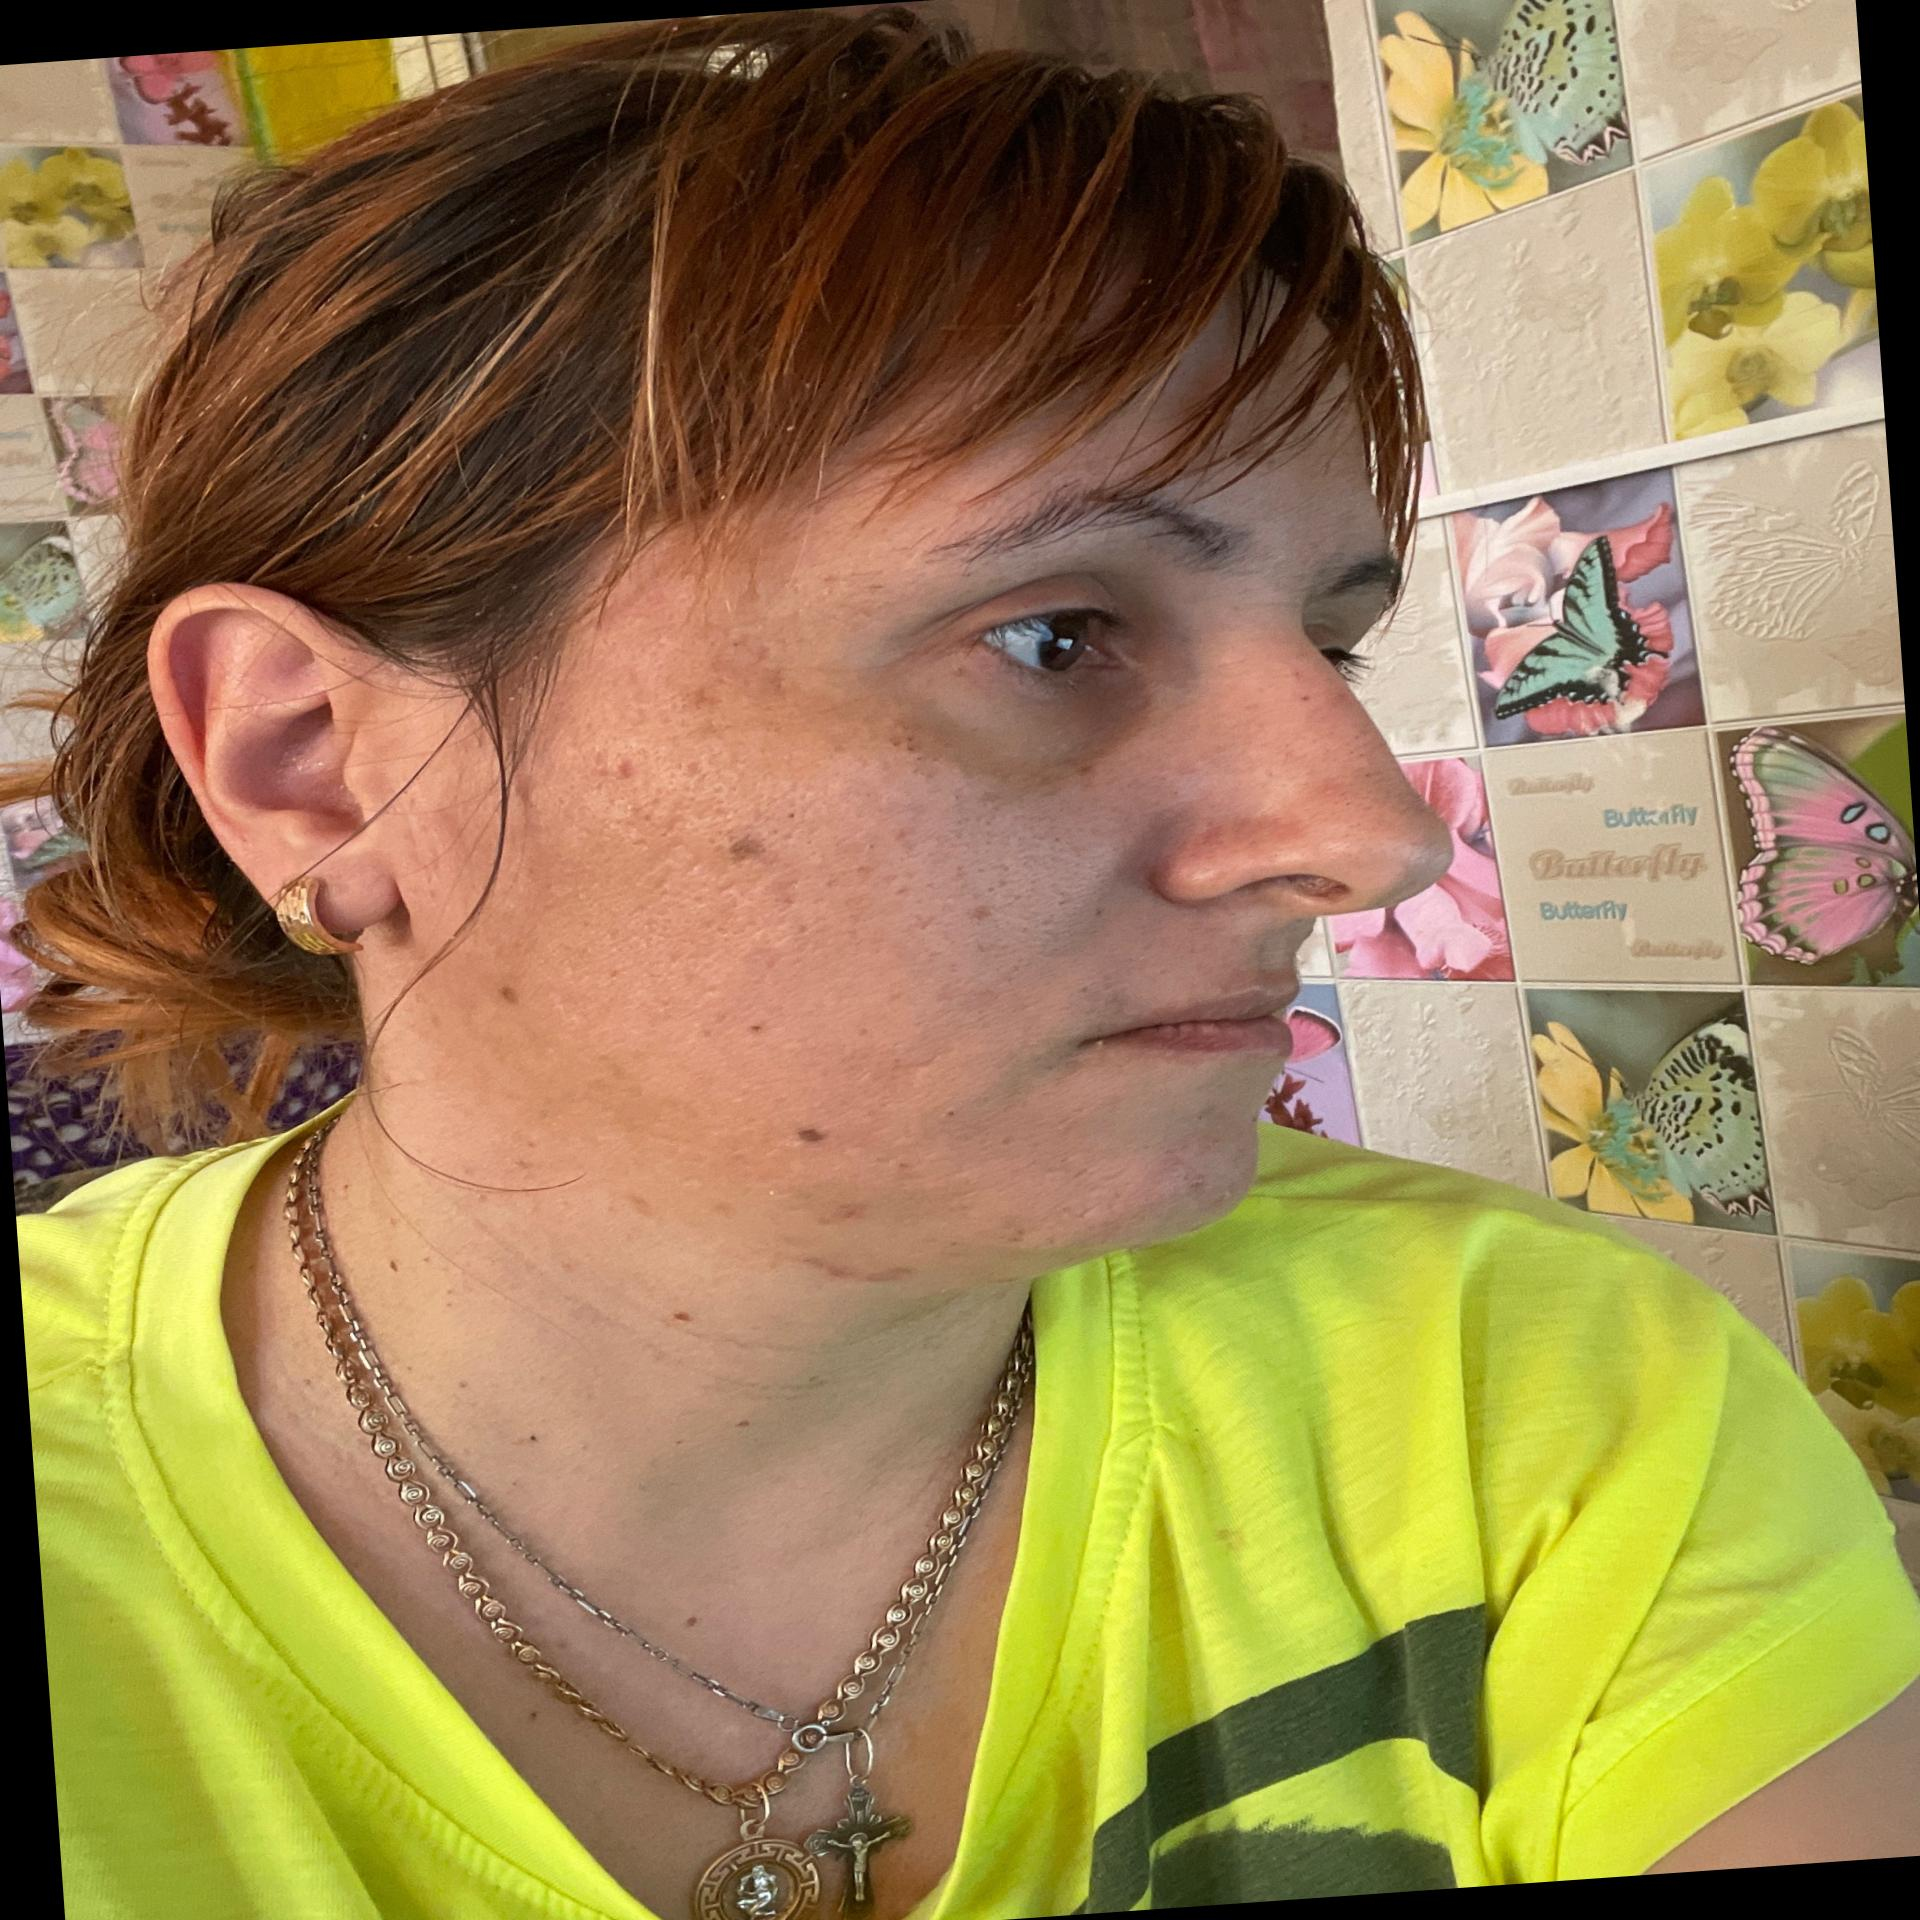Acne: (1180, 811, 1310, 853), (600, 749, 645, 793), (958, 897, 999, 930), (1180, 1167, 1217, 1201), (1306, 775, 1350, 800)
Dark Circles: (881, 666, 1162, 795)
Englarged Pores: (566, 735, 847, 856), (909, 798, 1122, 951), (658, 860, 835, 971)
